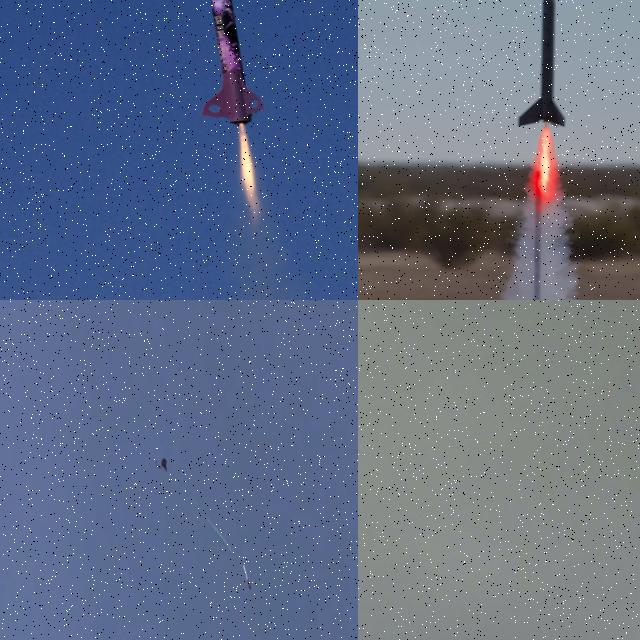Rocket: (199, 0, 265, 126), (518, 0, 565, 128), (243, 566, 251, 589)
